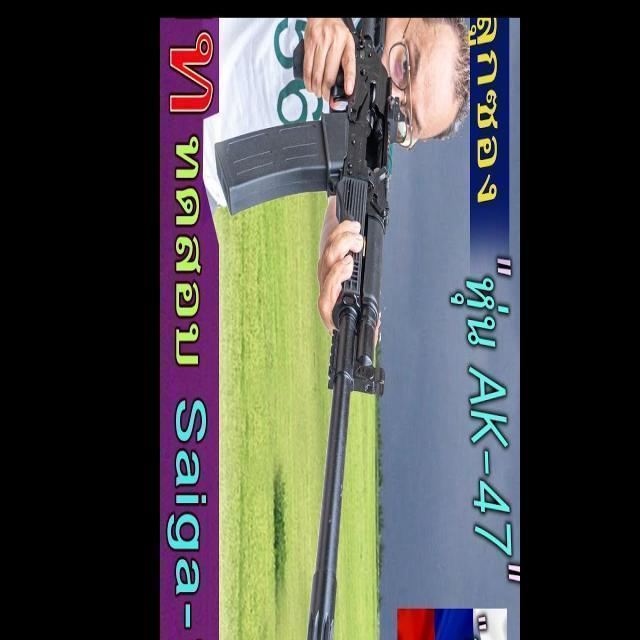Rifle: (214, 19, 406, 640)
